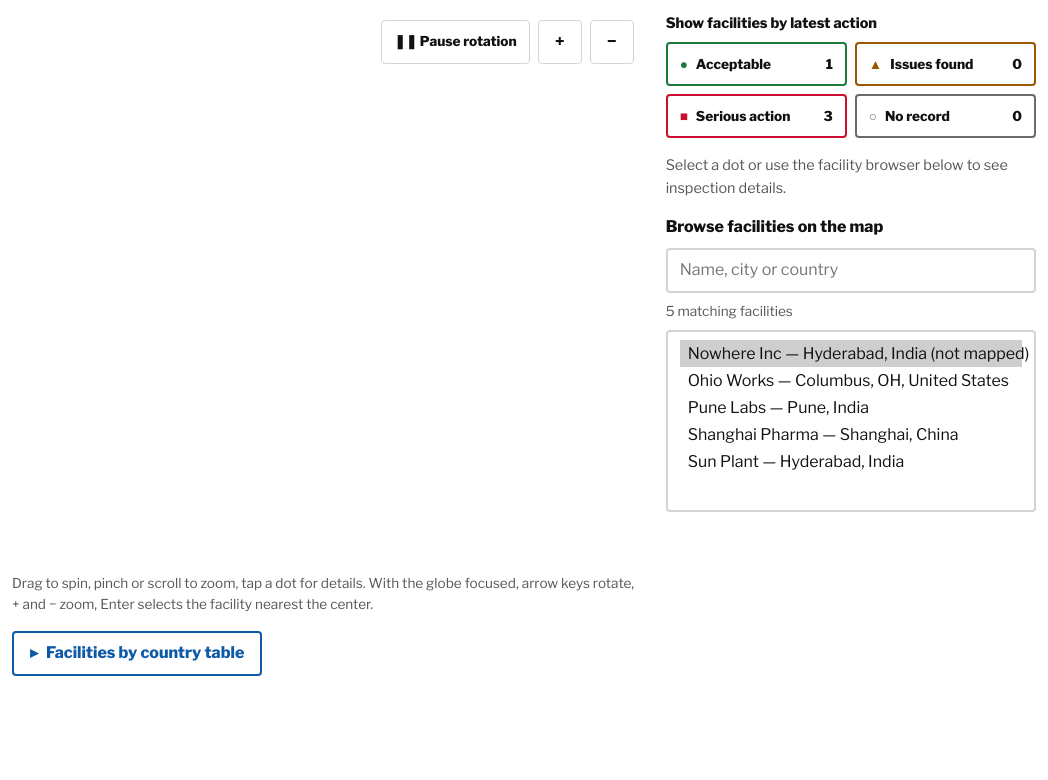
Globe › toggles rotation with a pressed-state button
The image size is (1048, 780).
Click the button "❚❚ Pause rotation" at coordinates (455, 42), box [381,20,530,64]
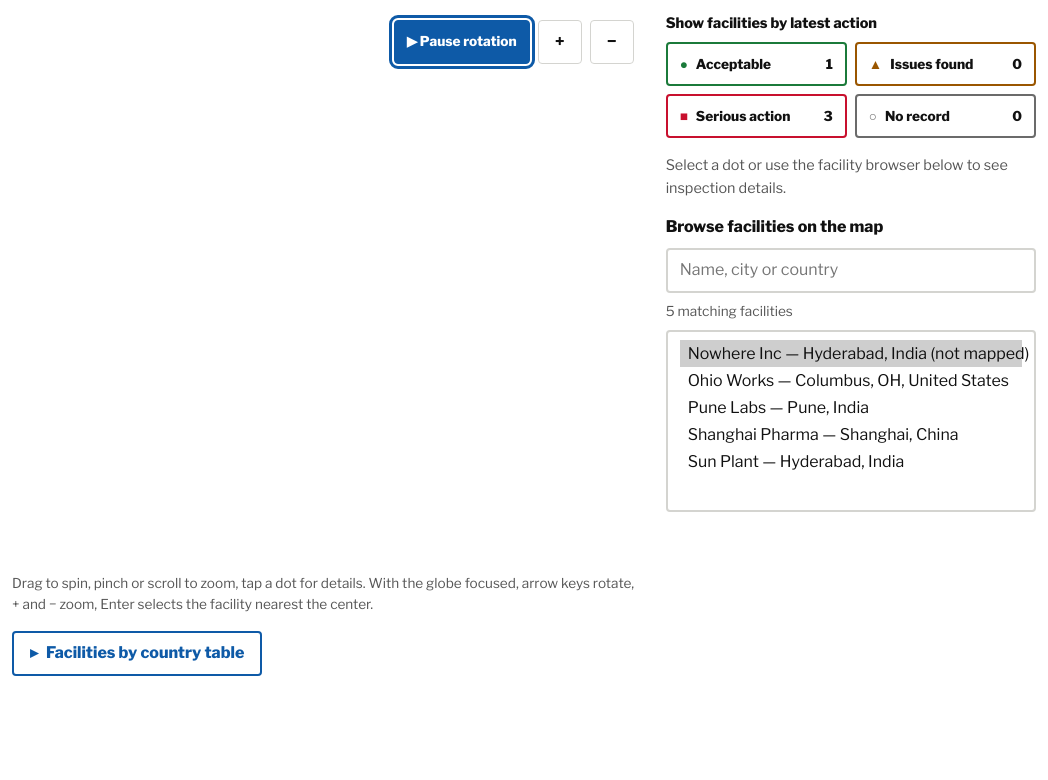
Check: the picture named "rotation paused" is shown, box [12,12,642,565]
